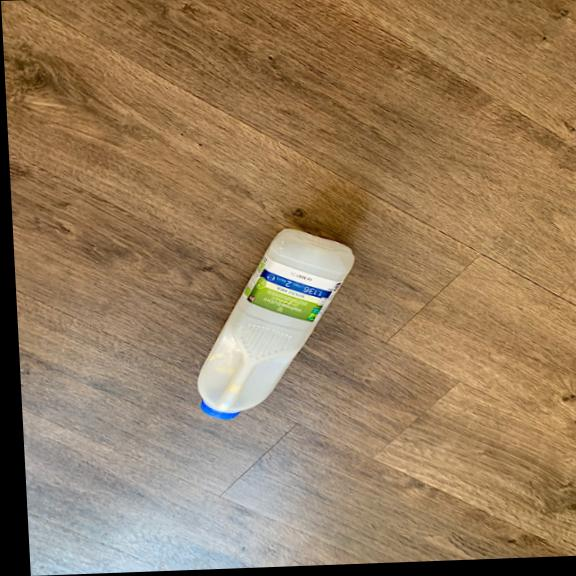Plastik: (184, 220, 363, 421)
